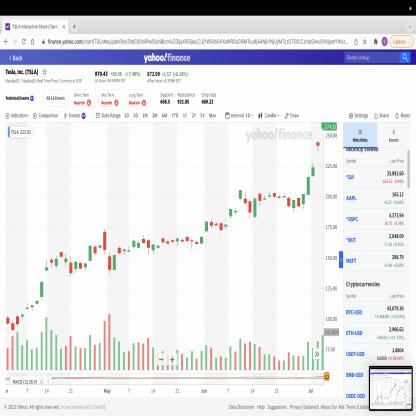Bullish: 3 White Soldiers: (301, 161, 315, 211)
Bullish: Engulfing: (248, 195, 258, 222)
Bullish: Tweezer Bottom: (107, 250, 117, 276)
